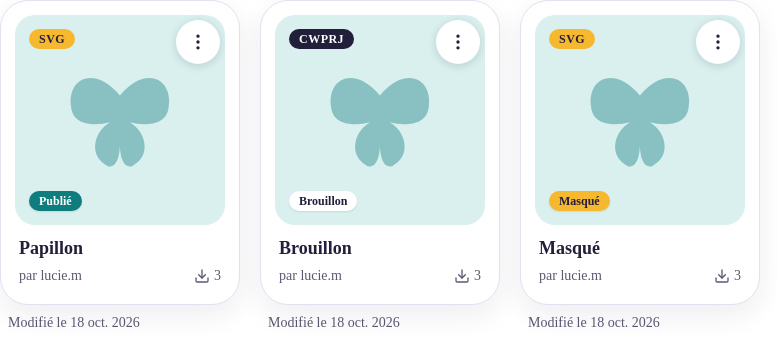
Test: MyModels › dépublie un modèle publié
Click the button named "Actions pour « Papillon »" at (198, 42), box left=176, top=20, right=220, bottom=64
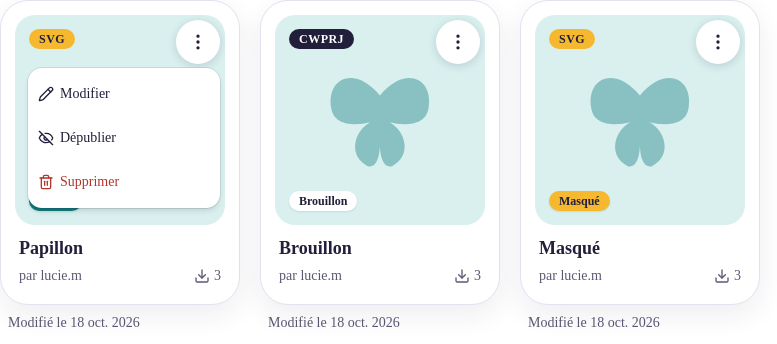
Click the menu item "Dépublier" at (77, 138), box left=38, top=130, right=116, bottom=146
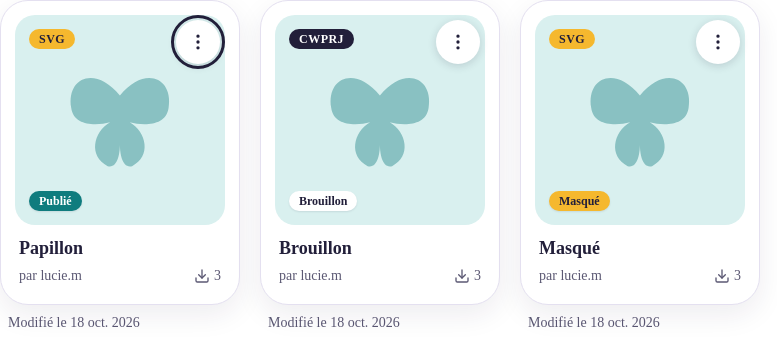
Note: Pas de « Dépublier » pour un brouillon.
Click the button named "Actions pour « Brouillon »" at (458, 42), box left=436, top=20, right=480, bottom=64
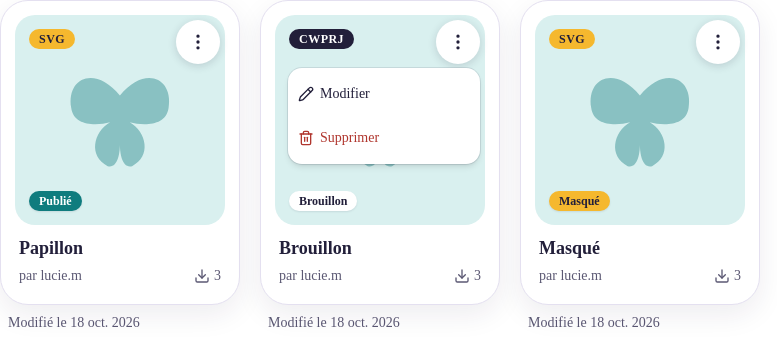
Expected: the menu item "Dépublier" is not shown
Now the menu item "Modifier" is shown, box left=298, top=86, right=370, bottom=102
